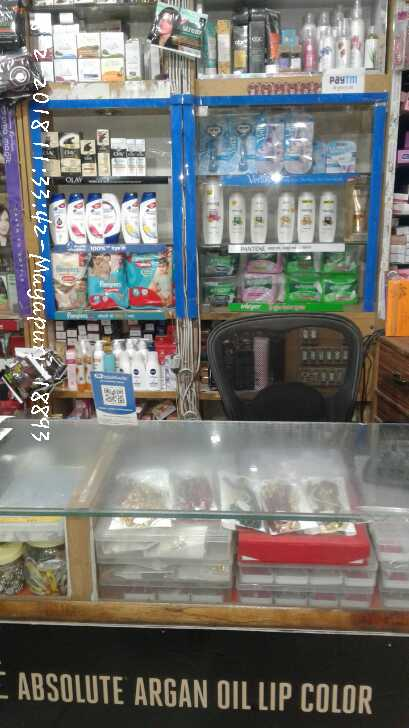venus: (285, 113, 315, 172), (256, 113, 285, 174), (200, 117, 232, 171), (232, 117, 256, 174), (328, 142, 358, 173)
